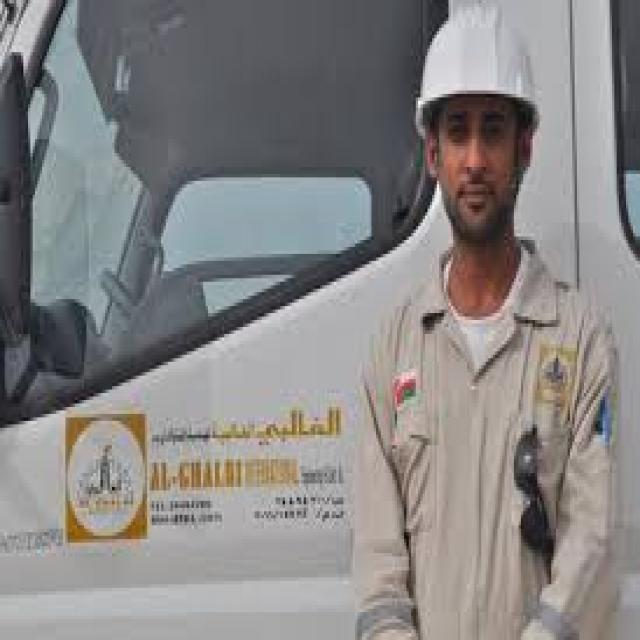safety_helmet: (408, 3, 560, 135)
